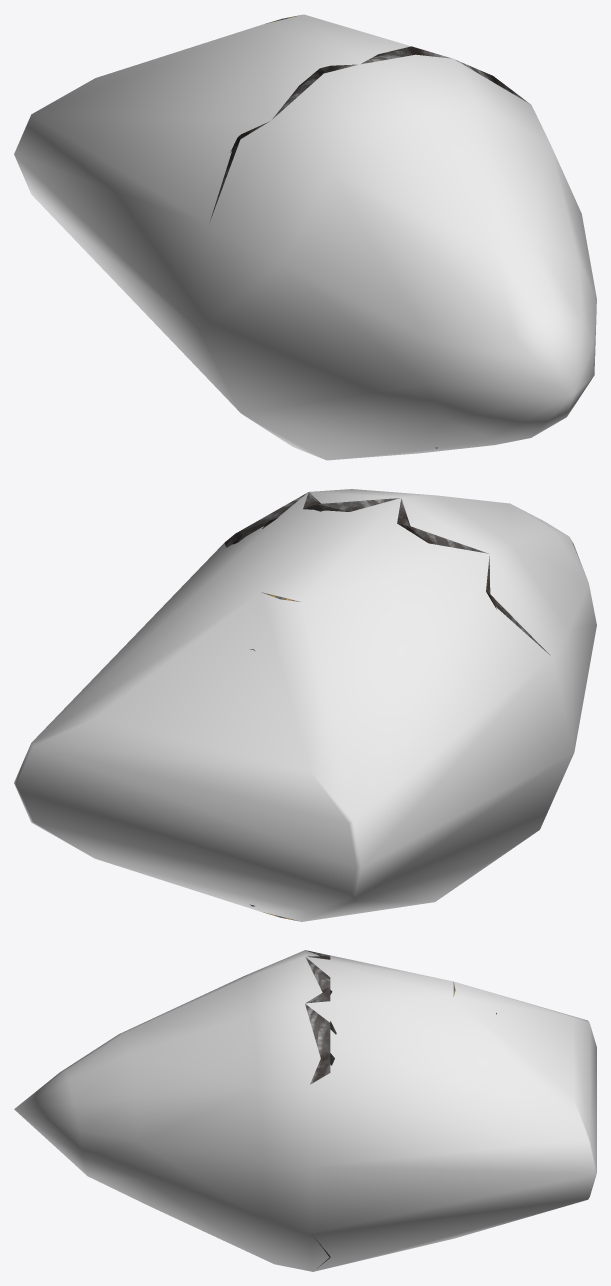
File: driller.fbx
The picture shows the model from 3 angles, top to bottom: view 1: azimuth 30°, elevation 25°; view 2: azimuth 150°, elevation 25°; view 3: azimuth 270°, elevation 25°; orthographic projection. The views are drawn at different scales.
Parts seen in each view (by area): view 1: driller_col, driller_bit; view 2: driller_col, driller_bit; view 3: driller_col, driller_bit.
Boxes of the visible parts, bbox=[...] form: driller_col: bbox=[14, 14, 596, 460]; driller_bit: bbox=[210, 46, 530, 448]; driller_col: bbox=[14, 489, 596, 921]; driller_bit: bbox=[224, 492, 550, 655]; driller_col: bbox=[14, 950, 596, 1271]; driller_bit: bbox=[305, 950, 330, 1268].
Bounding box in the file's own units: 146 × 146 × 260.
